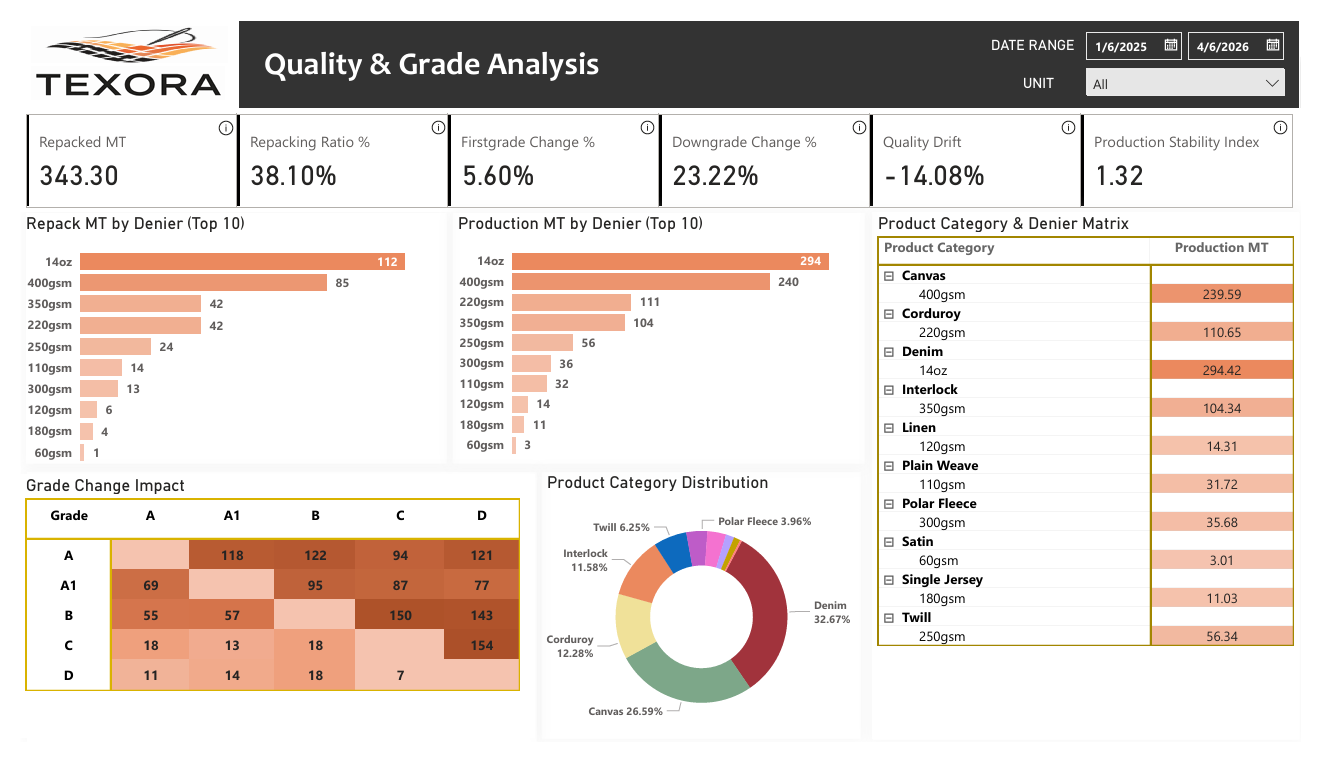

The dashboard page shown, as its layout file describes it:
{"tool":"powerbi","page":{"name":"Quality & Grade","canvas":[1280,720],"ordinal":1},"visuals":[{"type":"shape","box":[218.6,0,1060.6,87.4],"z":0},{"type":"textbox","box":[238,0,654.2,87.4],"z":1000},{"type":"shape","box":[5.4,190.8,420.4,251.5],"z":2000},{"type":"cardVisual","fields":{"Data":["DAX.Repacked MT","DAX.Repacking Ratio %","DAX.Firstgrade % (Only Changed)","DAX.Downgrade % (Only Changed)","DAX.Quality Drift","DAX.Production Stability Index"]},"box":[0,86.9,1281.3,103.9],"z":3000},{"type":"barChart","title":"Repack MT by Denier (Top 10)","fields":{"Category":["Production.dn"],"Y":["DAX.Repacked MT"]},"box":[0,191.1,417.8,262.3],"z":4000},{"type":"shape","box":[852.3,190.9,427.1,527.2],"z":5000},{"type":"shape","box":[6.3,450.2,509.2,270.5],"z":6000},{"type":"shape","box":[521.3,450.2,319,267.3],"z":7000},{"type":"pivotTable","title":"Product Category & Denier Matrix","fields":{"Rows":["Production.pt","Production.dn"],"Values":["DAX.Total Production MT"]},"box":[852.3,190.9,427.1,527.2],"z":8000},{"type":"donutChart","title":"Product Category Distribution","fields":{"Y":["DAX.Total Production MT"],"Category":["Production.pt"]},"box":[521.4,450.1,319,270.4],"z":9000},{"type":"shape","box":[432.3,191.1,411.3,251],"z":10000},{"type":"barChart","title":"Production MT by Denier (Top 10)","fields":{"Category":["Production.dn"],"Y":["DAX.Total Production MT"]},"box":[432.3,191.1,408,254.2],"z":11000},{"type":"slicer","fields":{"Values":["Date Table.Date"]},"box":[1052.4,0,225.3,44.7],"z":12000},{"type":"slicer","fields":{"Values":["Production.Location Name"]},"box":[1056.2,37.1,217.6,39.5],"z":13000},{"type":"actionButton","box":[192.9,93.7,25.5,23.8],"z":16000},{"type":"actionButton","box":[405.5,93.6,25.5,23.8],"z":17000},{"type":"actionButton","box":[614.9,93.6,25.5,23.8],"z":18000},{"type":"actionButton","box":[826.8,93.6,25.5,23.8],"z":19000},{"type":"actionButton","box":[1035.7,93.6,25.5,23.8],"z":20000},{"type":"actionButton","box":[1248.1,93.6,25.5,23.8],"z":21000},{"type":"pivotTable","title":"Grade Change Impact","fields":{"Values":["DAX.Record Count"],"Rows":["Production.FLYPGRADE"],"Columns":["Production.grade_actual"]},"box":[0,453.4,514.9,263.9],"z":22000},{"type":"textbox","box":[997.1,46.6,136.8,30.6],"z":22001},{"type":"textbox","box":[965,8.7,120.8,32],"z":22002},{"type":"image","box":[6.5,0,205.6,47],"z":22003},{"type":"image","box":[6.5,37.2,202.4,50.2],"z":22004}]}

Visuals, with their boxes in screenshot pixels (x1, y1, x2, y2), scaled from the page's 1280x720 canvas onto the 1318x760 screenshot:
shape: <box>225,0,1317,92</box>
textbox: <box>245,0,919,92</box>
shape: <box>6,201,438,467</box>
cardVisual - DAX.Repacked MT x DAX.Repacking Ratio %: <box>0,92,1317,201</box>
"Repack MT by Denier (Top 10)" barChart: <box>0,202,430,479</box>
shape: <box>878,202,1317,758</box>
shape: <box>6,475,531,759</box>
shape: <box>537,475,865,757</box>
"Product Category & Denier Matrix" pivotTable: <box>878,202,1317,758</box>
"Product Category Distribution" donutChart: <box>537,475,865,759</box>
shape: <box>445,202,869,467</box>
"Production MT by Denier (Top 10)" barChart: <box>445,202,865,470</box>
slicer - Date Table.Date: <box>1084,0,1316,47</box>
slicer - Production.Location Name: <box>1088,39,1312,81</box>
actionButton: <box>199,99,225,124</box>
actionButton: <box>418,99,444,124</box>
actionButton: <box>633,99,659,124</box>
actionButton: <box>851,99,878,124</box>
actionButton: <box>1066,99,1093,124</box>
actionButton: <box>1285,99,1311,124</box>
"Grade Change Impact" pivotTable: <box>0,479,530,757</box>
textbox: <box>1027,49,1168,81</box>
textbox: <box>994,9,1118,43</box>
image: <box>7,0,218,50</box>
image: <box>7,39,215,92</box>
